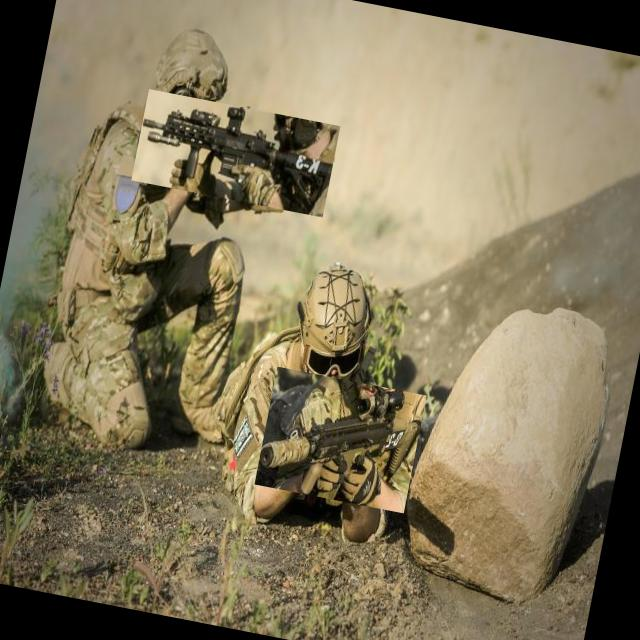Gun: (143, 108, 333, 214), (260, 391, 421, 495)
